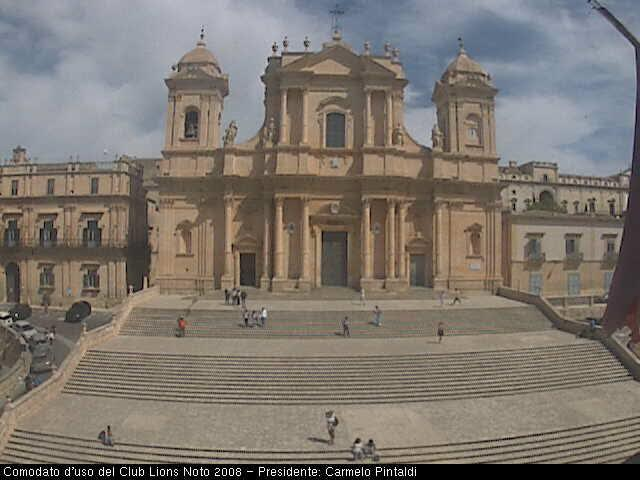person: (324, 409, 339, 448), (350, 436, 364, 462), (101, 424, 115, 446), (365, 438, 378, 460), (451, 287, 464, 306), (373, 305, 383, 329), (435, 321, 445, 345), (175, 315, 185, 337), (588, 318, 596, 341), (343, 315, 351, 336), (439, 289, 446, 311), (243, 310, 250, 329), (260, 307, 266, 328), (359, 288, 366, 306), (576, 327, 586, 339), (223, 289, 230, 306), (230, 287, 236, 306), (240, 289, 247, 305), (250, 312, 256, 328), (237, 289, 241, 306)
